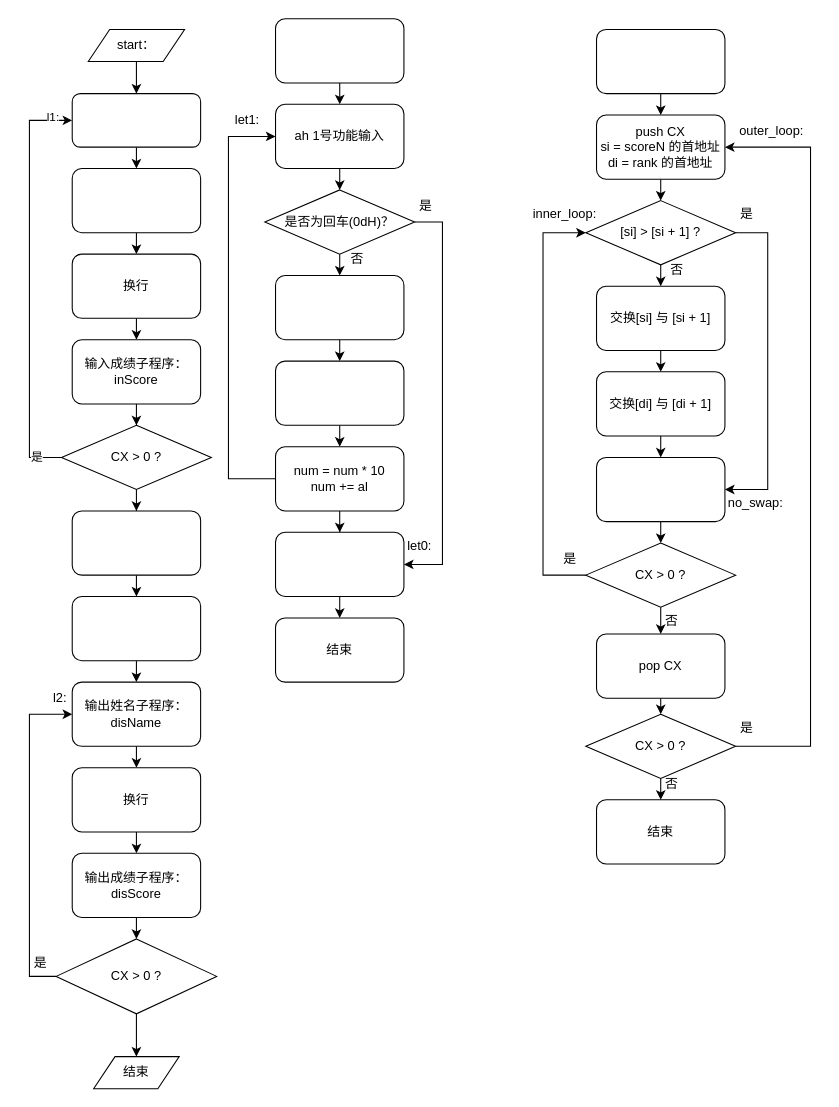
The diagram is 839 pixels wide and 1107 high, and some of its shapes have lost their labels. The centre of each missing label's shape, as x and y in pixels:
[BX] 处存入acsii码 BX++: the point at 339,307
al = al - 30h 转化为数字: the point at 339,392
BX = scoreAsc[sn]地址: the point at 339,50
CX = 学生个数 CX--: the point at 660,61
cx = 学生个数 t = 0 当前输出的第几个学生: the point at 136,628
cx = 学生的数量 sn = 0 当前第几个学生: the point at 136,120
scoreN[sn] = num: the point at 339,564
si++ di++: the point at 660,489
排序子程序：sort: the point at 136,542
输入姓名子程序： inName: the point at 136,200
